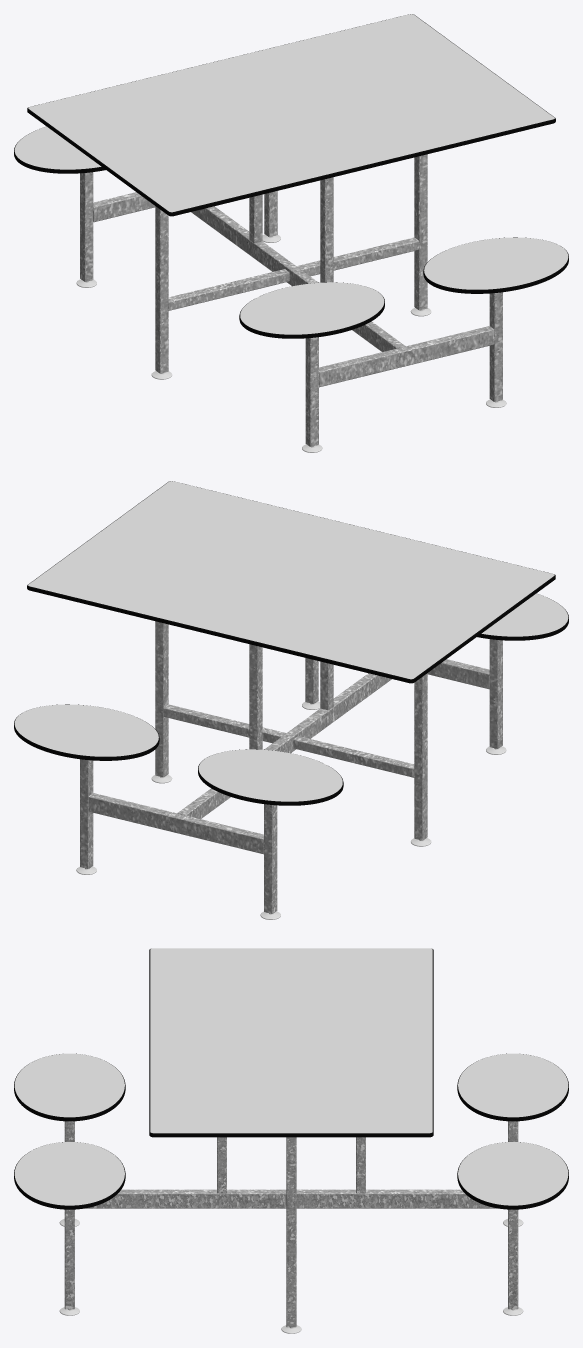
Rendered from fantas-tisch-gerade.glb.
3 renders of one model, top to bottom at view 1: azimuth 30°, elevation 25°; view 2: azimuth 150°, elevation 25°; view 3: azimuth 270°, elevation 25°, orthographic.
Parts seen in each view (by area): view 1: Tischplatte, Gestell, Sitzplatte, HPL Kante, Gleiter; view 2: Tischplatte, Gestell, Sitzplatte, HPL Kante, Gleiter; view 3: Tischplatte, Sitzplatte, Gestell, HPL Kante, Gleiter.
Part boxes in pixels (<box>): Tischplatte: <box>28,14,554,212</box>; Gestell: <box>80,154,502,446</box>; Sitzplatte: <box>14,126,568,334</box>; HPL Kante: <box>14,14,568,338</box>; Gleiter: <box>76,234,506,452</box>; Tischplatte: <box>28,481,554,679</box>; Gestell: <box>80,621,502,913</box>; Sitzplatte: <box>14,593,568,801</box>; HPL Kante: <box>14,481,568,805</box>; Gleiter: <box>76,701,506,919</box>; Tischplatte: <box>150,948,432,1133</box>; Sitzplatte: <box>14,1053,568,1205</box>; Gestell: <box>64,1121,518,1327</box>; HPL Kante: <box>14,949,568,1209</box>; Gleiter: <box>59,1219,523,1333</box>.
Bounding box in the file's own units: 1.3 × 0.74 × 1.64.
Materials: 3 (1 with a texture image).
